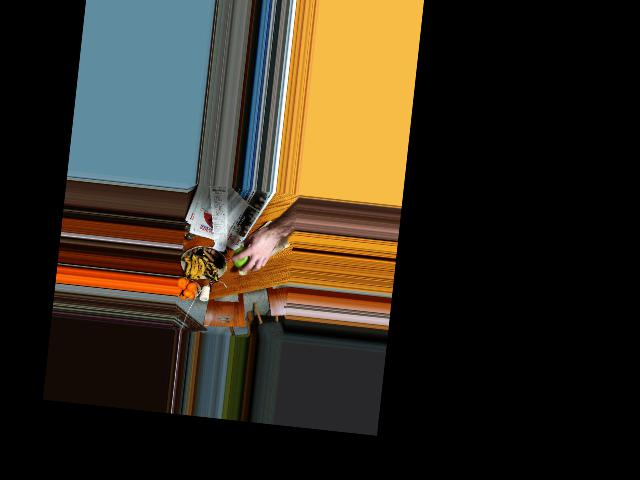apple: (231, 244, 257, 271)
